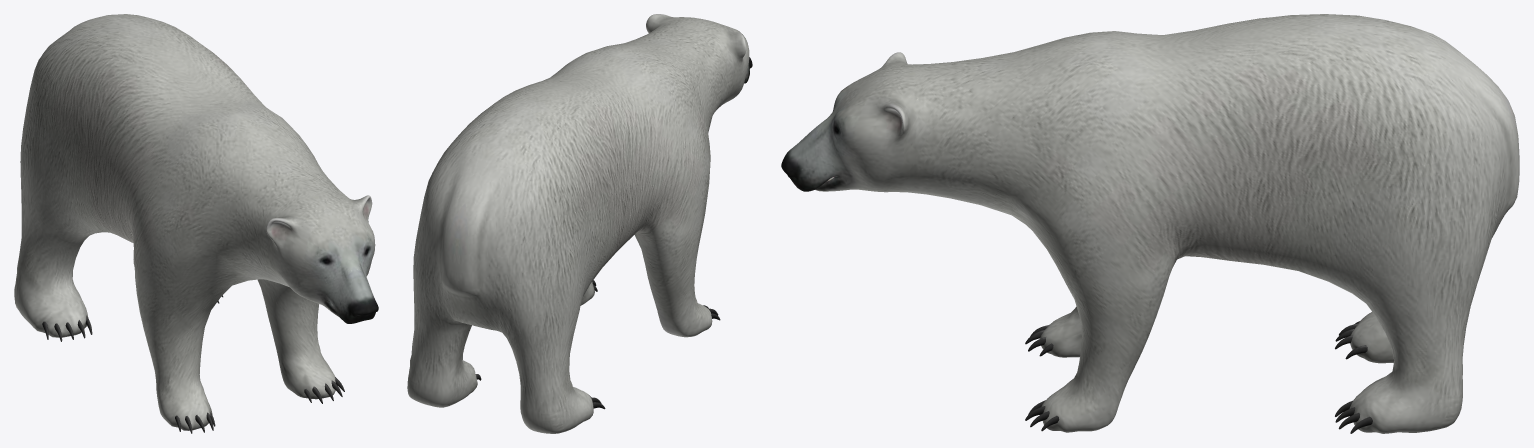
File: PolarBear.glb
3 views of the same model, side by side, from view 1: azimuth 30°, elevation 25°; view 2: azimuth 150°, elevation 25°; view 3: azimuth 270°, elevation 25° (orthographic). The views are drawn at different scales.
Parts seen in each view (by area): view 1: icebear; view 2: icebear; view 3: icebear.
Boxes of the visible parts, x1,y1,x2,y2 form: icebear: (14, 14, 378, 433); icebear: (407, 14, 752, 433); icebear: (781, 14, 1519, 433).
Size of the model in its own units: 0.3372 by 0.5438 by 1.
1 material, 1 textured.
